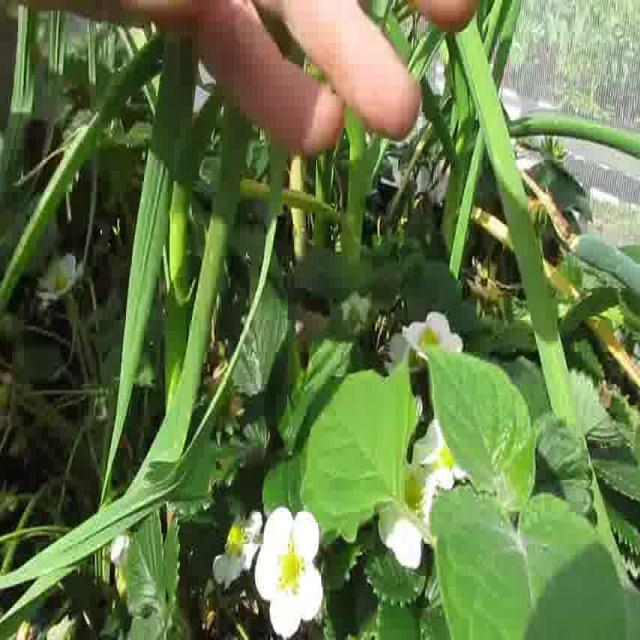Fruta sana: (402, 470, 424, 512), (280, 546, 300, 586), (439, 433, 456, 478), (226, 522, 246, 560), (415, 326, 443, 344), (53, 272, 67, 290)
